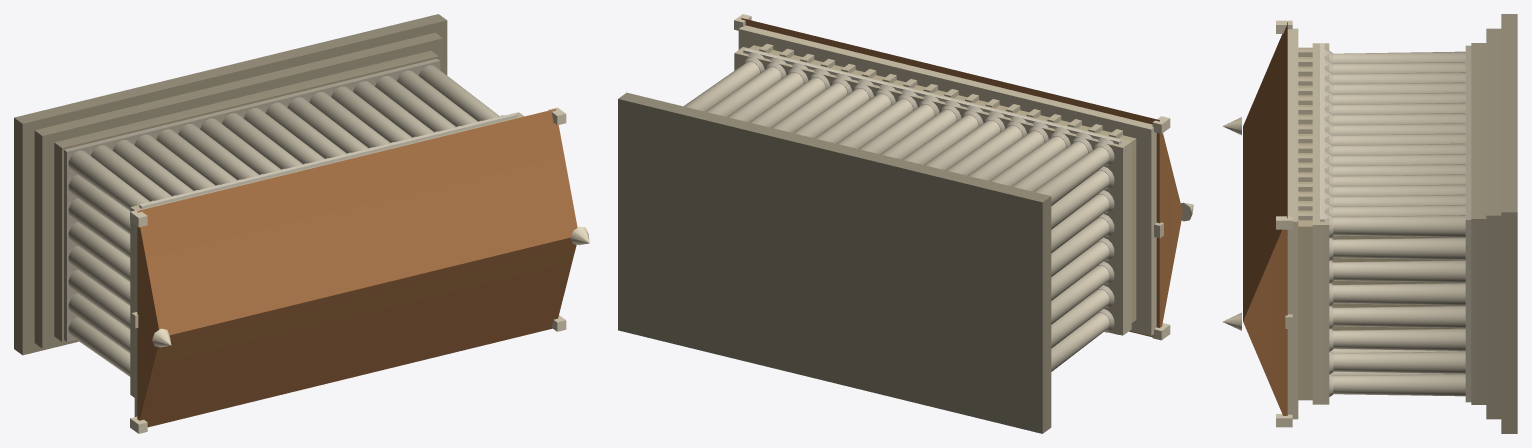
File: parthenon.glb
3 views of the same model, side by side, from view 1: azimuth 30°, elevation 25°; view 2: azimuth 150°, elevation 25°; view 3: azimuth 270°, elevation 25° (orthographic). The views are drawn at different scales.
Parts seen in each view (by area): view 1: part-roof, part-column, part-base, part-capital, part-entab, part-orn; view 2: part-base, part-column, part-entab, part-roof, part-capital, part-frieze, part-orn; view 3: part-column, part-base, part-roof, part-entab, part-frieze, part-capital, part-cella, part-orn.
Part boxes in pixels (x1,y1,x2,y2): part-roof: [137, 109, 577, 427]; part-column: [64, 58, 499, 376]; part-base: [14, 14, 447, 355]; part-capital: [139, 113, 517, 208]; part-entab: [130, 112, 524, 416]; part-orn: [130, 107, 589, 433]; part-base: [618, 92, 1051, 433]; part-column: [683, 61, 1109, 371]; part-entab: [734, 25, 1163, 335]; part-roof: [741, 18, 1182, 337]; part-capital: [743, 48, 1121, 334]; part-frieze: [749, 45, 1136, 322]; part-orn: [734, 14, 1193, 340]; part-column: [1333, 45, 1471, 402]; part-base: [1471, 14, 1517, 433]; part-roof: [1243, 22, 1287, 415]; part-entab: [1285, 28, 1329, 419]; part-frieze: [1298, 47, 1312, 400]; part-capital: [1320, 43, 1333, 396]; part-cella: [1331, 235, 1465, 330]; part-orn: [1222, 20, 1292, 427].
Bounding box in the file's own units: 1.46 × 0.74 × 0.894.
